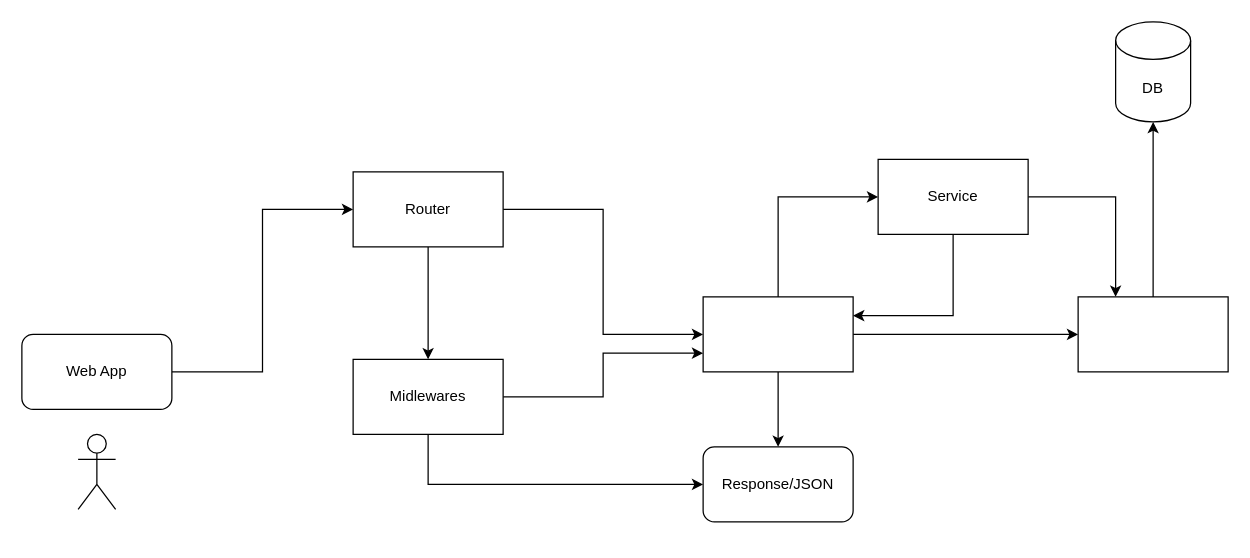
Image size: 1250x558. Some labels were removed from this diagram. Each missing label, with the box of its shape:
Actor: (77, 433, 116, 509)
Controller: (702, 296, 853, 372)
Model: (1077, 296, 1228, 372)
